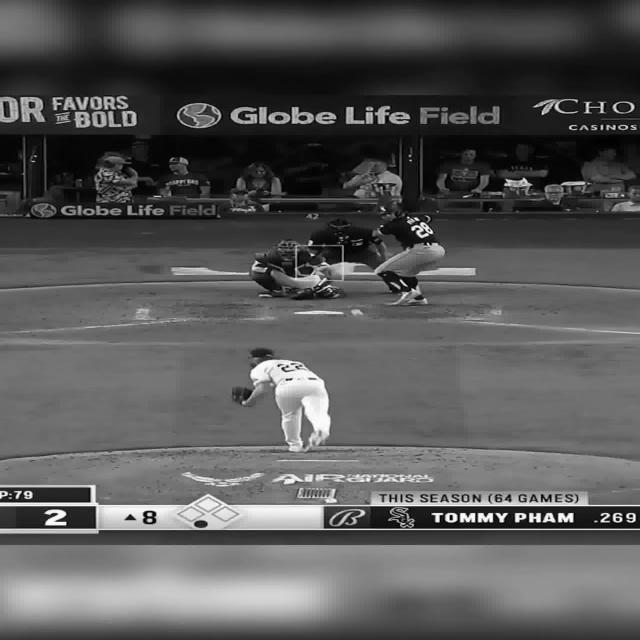baseball: (352, 308, 361, 315)
baseball_glove: (230, 386, 254, 406)
shoe: (384, 288, 420, 306), (305, 429, 329, 452), (399, 294, 428, 306), (290, 288, 315, 299), (257, 289, 284, 297), (288, 443, 302, 453)
